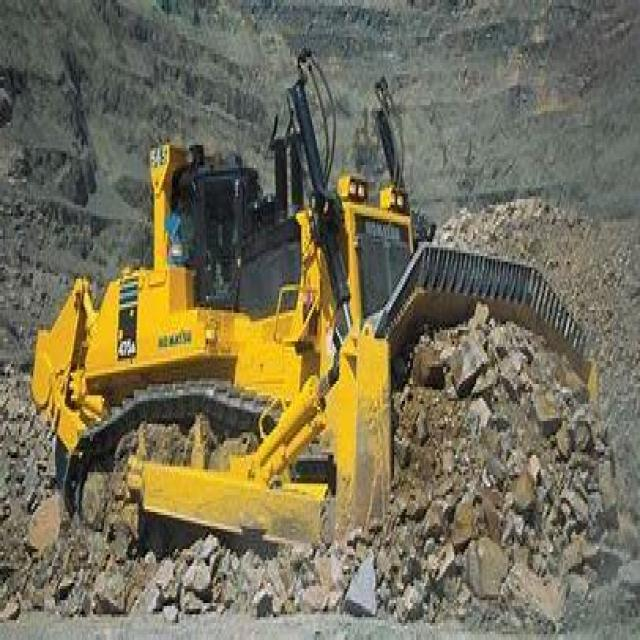Bulldozer: (16, 40, 608, 623)
